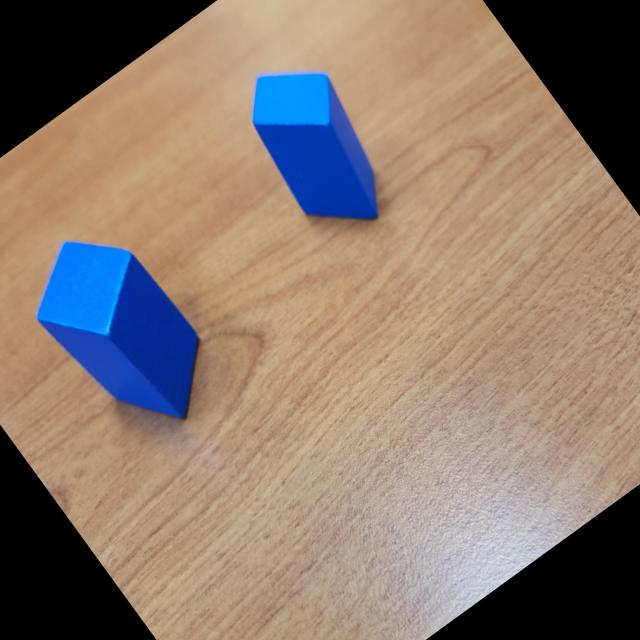blue: (7, 207, 235, 454), (220, 40, 414, 253)
